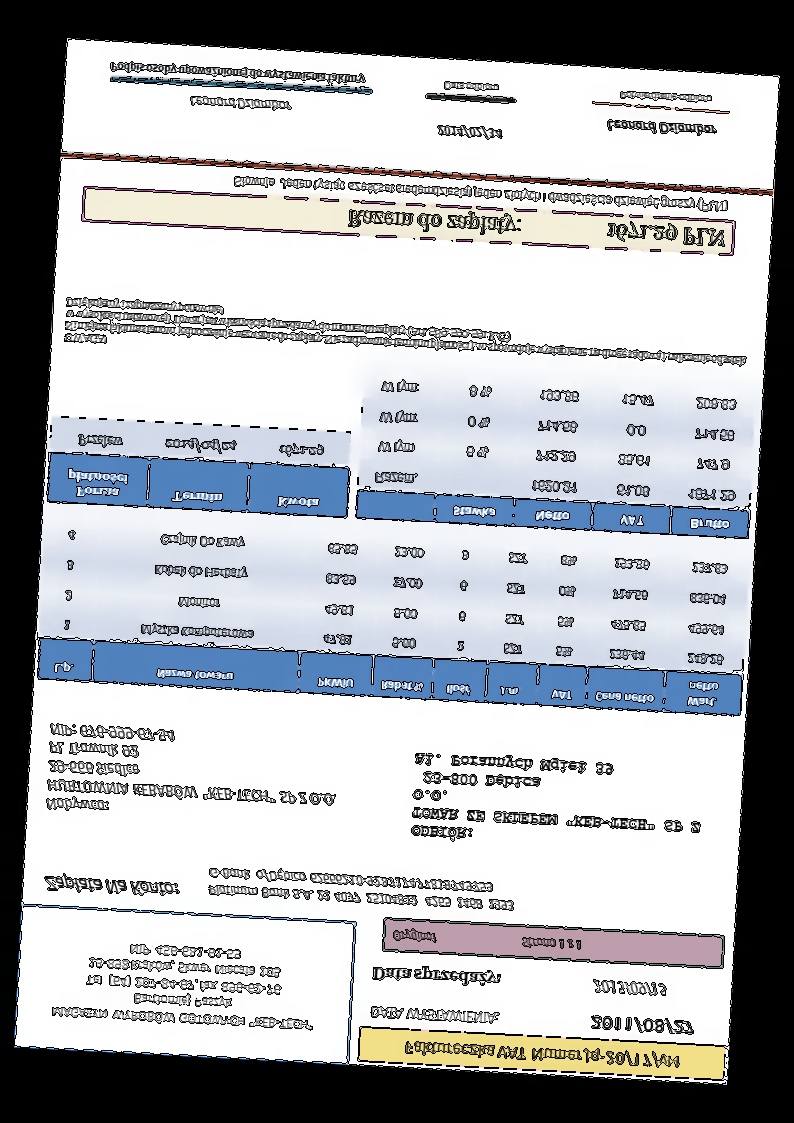Table: (37, 514, 750, 718), (354, 366, 758, 540), (46, 414, 353, 520)
TextBox: (61, 293, 750, 380), (408, 748, 708, 857), (42, 720, 340, 828), (49, 936, 320, 1034), (232, 170, 728, 217), (345, 203, 728, 251), (205, 863, 518, 914), (402, 1037, 680, 1072), (108, 58, 368, 89), (391, 926, 582, 952), (42, 871, 180, 900), (370, 963, 504, 989), (368, 1002, 501, 1028), (589, 1010, 696, 1036), (603, 118, 716, 139), (187, 93, 294, 115), (591, 977, 668, 999), (619, 89, 713, 105), (435, 122, 504, 142), (440, 79, 500, 96)
